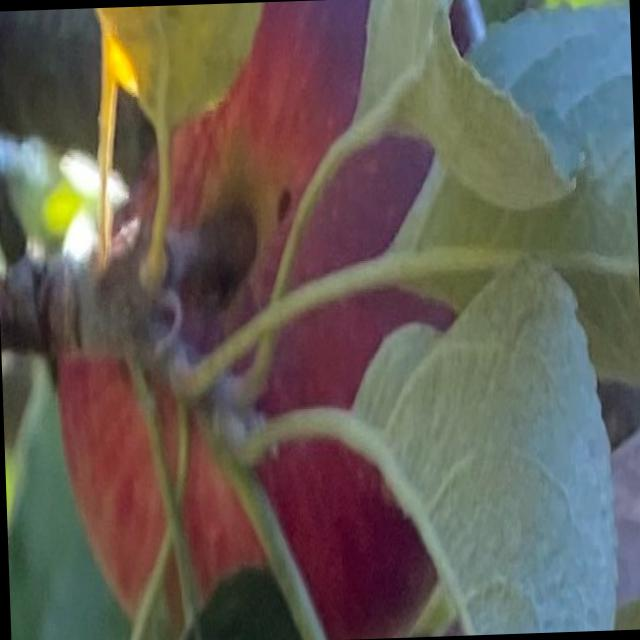Apples: (44, 0, 506, 639)
